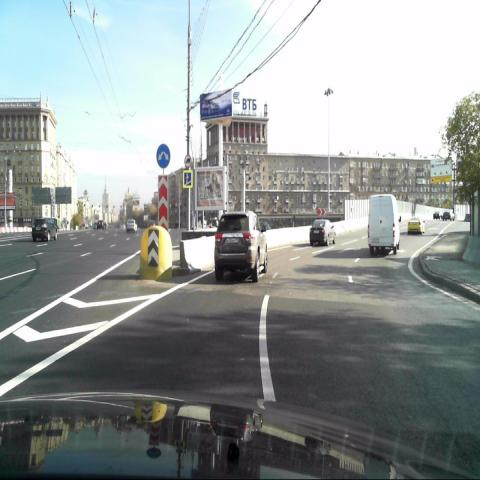4_2_3: (156, 143, 170, 168)
